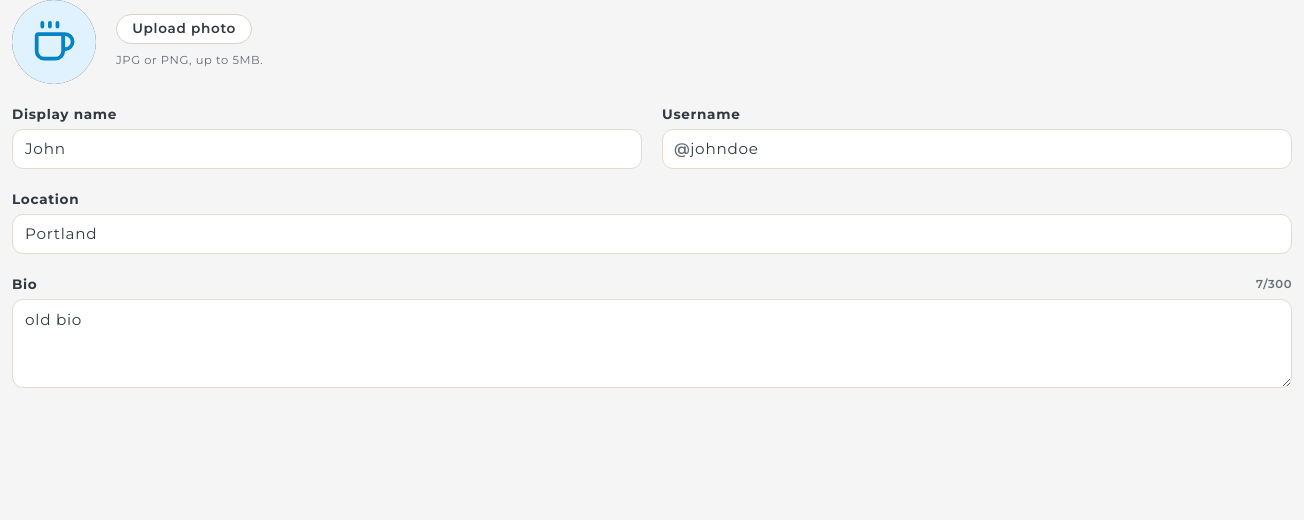
Test: Profile settings — username availability › flags an invalid username inline without hitting the server
The width and height of the screenshot is (1304, 520).
Replace the text in the field labelled "Username @" with "ab" at (977, 149), box [662,129,1292,169]
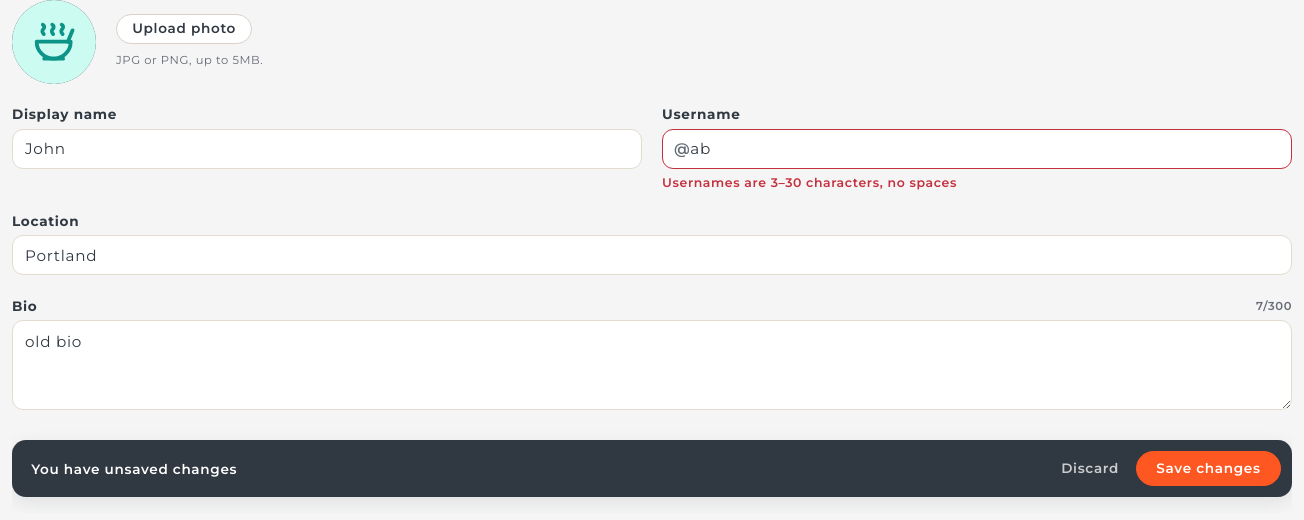
Expected: the text "Usernames are 3–30 characters, no spaces" is shown, [662,175,957,190]
